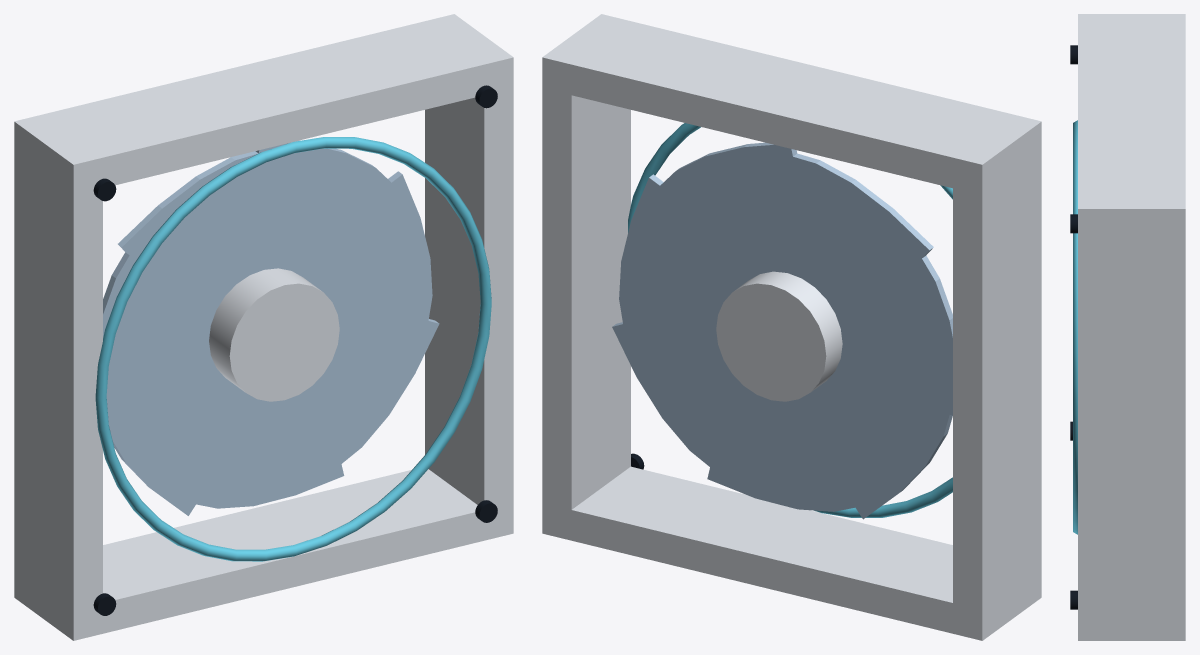
The model's file is retail-lian-li-uni-fan-tl-120-reverse-blade-wireless-white.glb.
The picture shows the model from 3 angles, left to right: view 1: azimuth 30°, elevation 25°; view 2: azimuth 150°, elevation 25°; view 3: azimuth 270°, elevation 25°; orthographic projection. The views are drawn at different scales.
Visible parts, largest first — view 1: Frame edge (×4), Blade (×7), Intake rim, Motor hub; view 2: Frame edge (×4), Blade (×7), Motor hub, Intake rim; view 3: Frame edge (×3), Intake rim.
Boxes of the visible parts, box(x1,y1,x2,y2) form: Frame edge (×4): box(14, 14, 513, 640); Blade (×7): box(103, 140, 439, 515); Intake rim: box(95, 137, 491, 561); Motor hub: box(209, 268, 339, 401); Frame edge (×4): box(542, 14, 1041, 640); Blade (×7): box(612, 142, 952, 519); Motor hub: box(716, 271, 842, 401); Intake rim: box(628, 123, 952, 517); Frame edge (×3): box(1078, 14, 1185, 640); Intake rim: box(1073, 120, 1077, 534).
Bounding box in the file's own units: 0.12 × 0.124 × 0.03.
